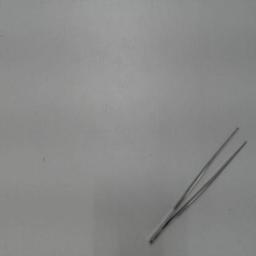Gillies Toothed Dissector: (141, 125, 251, 249)
